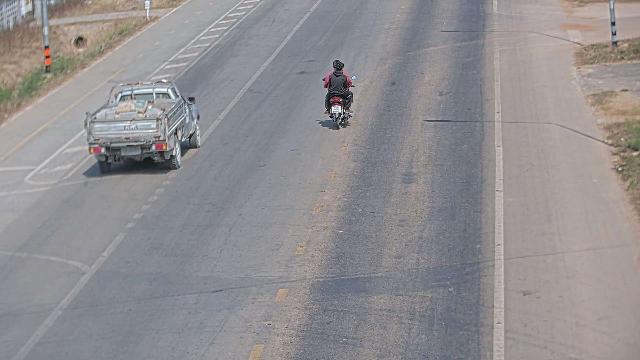motorcycle: (321, 59, 356, 133)
pickup-truck: (83, 78, 201, 174)
